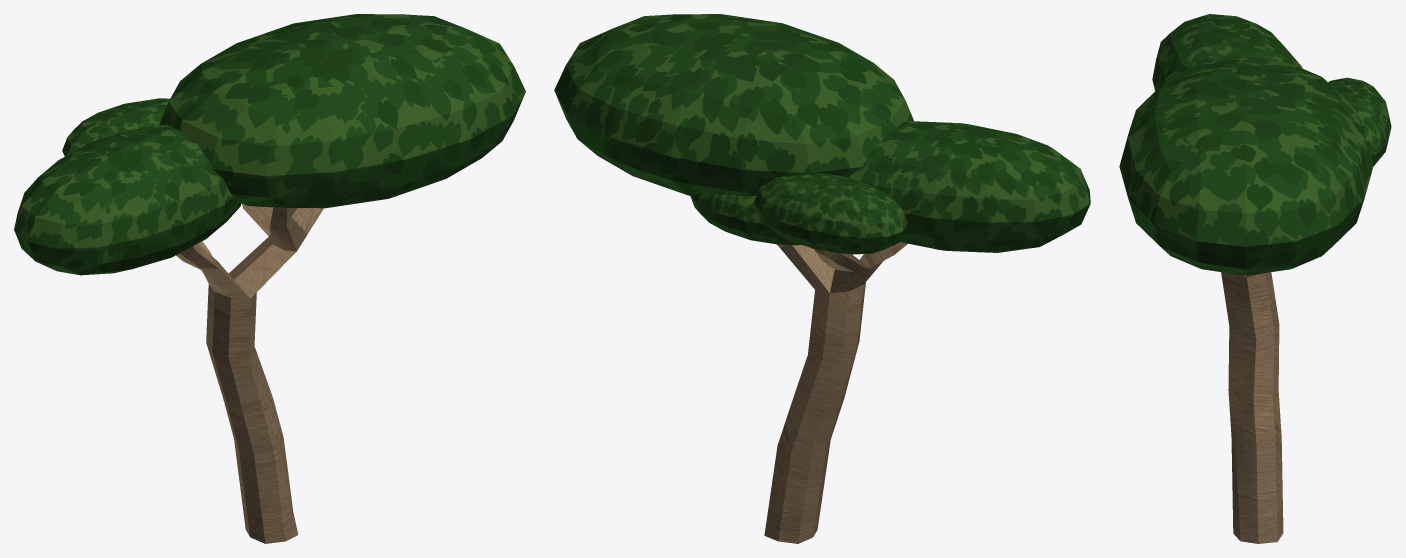
File: tree-2.2.glb
The picture shows the model from 3 angles, left to right: view 1: azimuth 30°, elevation 25°; view 2: azimuth 150°, elevation 25°; view 3: azimuth 270°, elevation 25°; orthographic projection. The views are drawn at different scales.
Parts seen in each view (by area): view 1: tree2; view 2: tree2; view 3: tree2.
Boxes of the visible parts, x1,y1,x2,y2 form: tree2: (14, 14, 525, 543); tree2: (554, 14, 1090, 543); tree2: (1119, 14, 1391, 543).
Bounding box in the file's own units: 14.57 × 13.27 × 7.01.
Materials: 2 (2 with a texture image).
